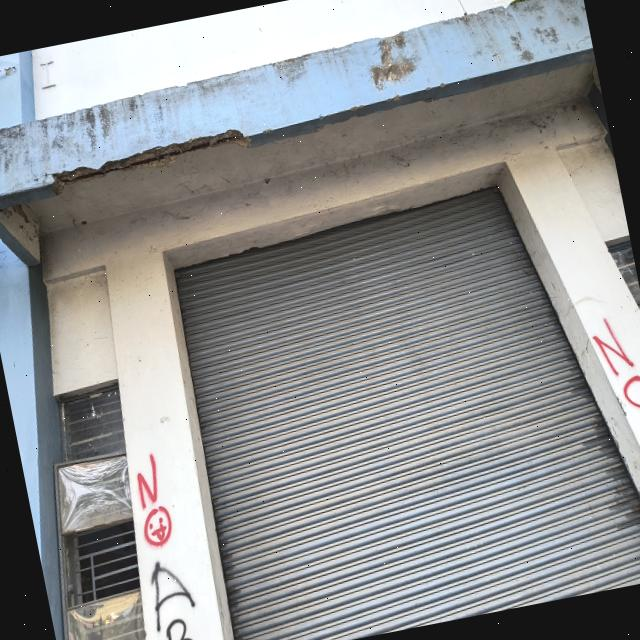peeling: (0, 204, 40, 260), (0, 61, 19, 80)
spalling: (52, 130, 251, 195)
stain_mould: (0, 94, 145, 174), (457, 0, 586, 63), (370, 32, 418, 90), (273, 55, 312, 84)
